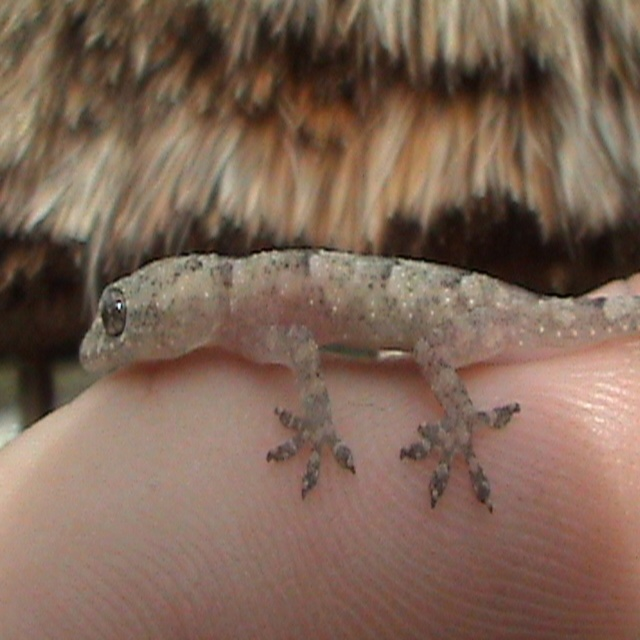Lizard: (78, 246, 640, 516)
